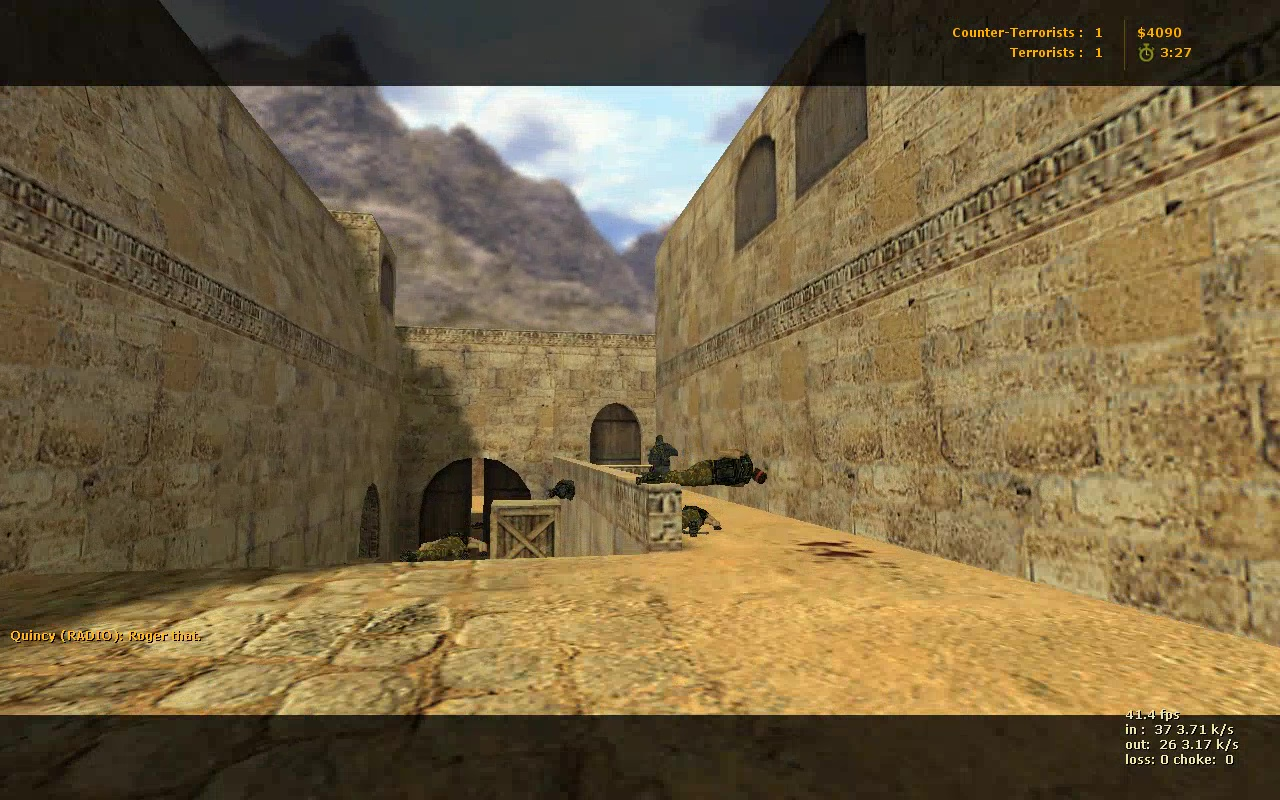ct: (647, 434, 680, 480)
dead: (642, 446, 769, 490), (406, 532, 490, 561), (678, 508, 725, 536)
